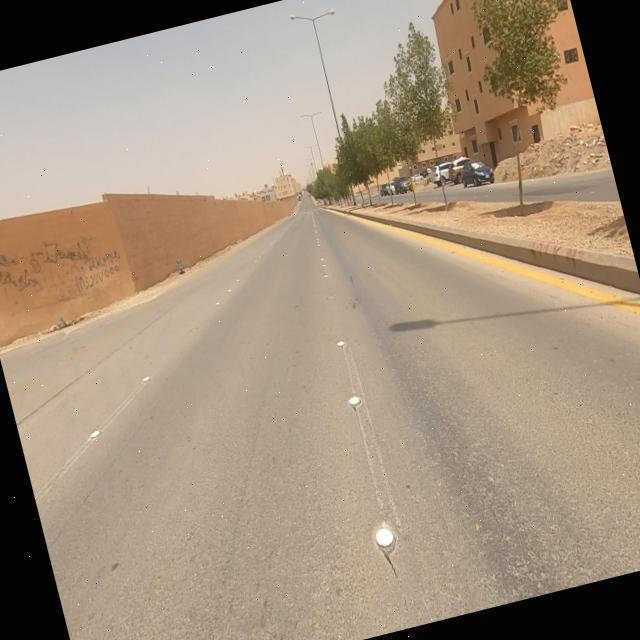Graffiti: (1, 226, 127, 315)
